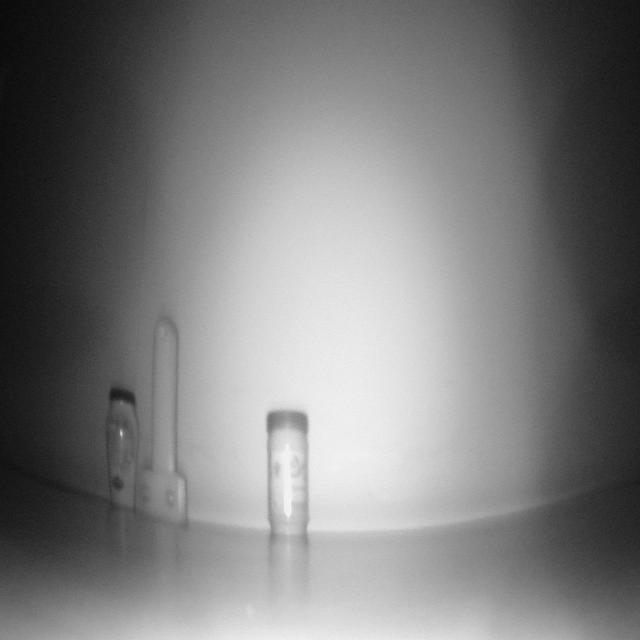targets: (137, 320, 186, 520), (268, 412, 308, 538), (106, 388, 137, 513)
